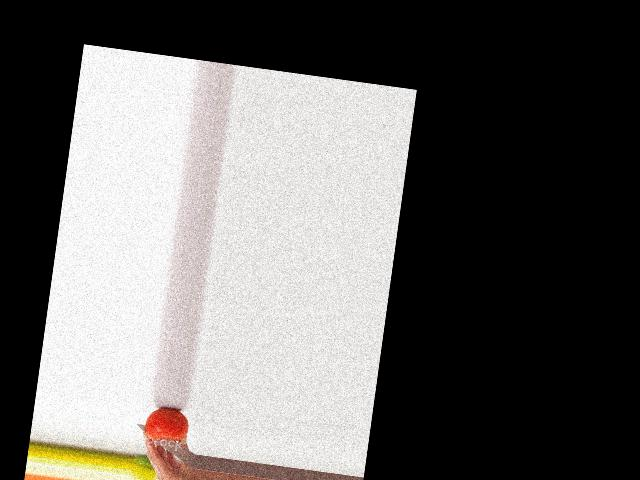tomato: (143, 405, 191, 444)
